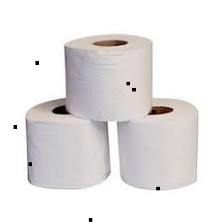tissue: (60, 30, 158, 124), (21, 92, 113, 192), (114, 95, 202, 193)
